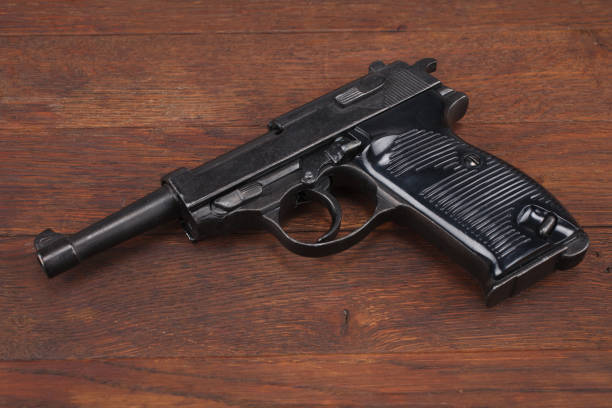gun: (35, 54, 593, 309)
